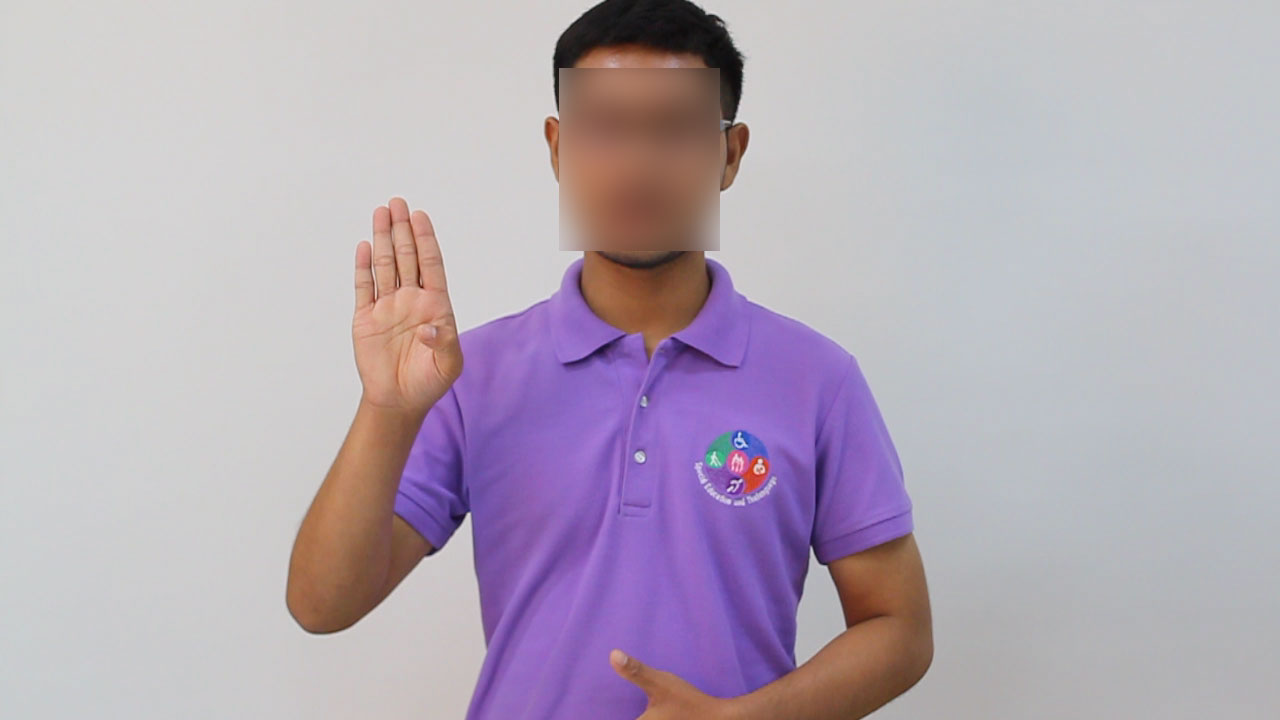bor: (339, 181, 472, 436)
